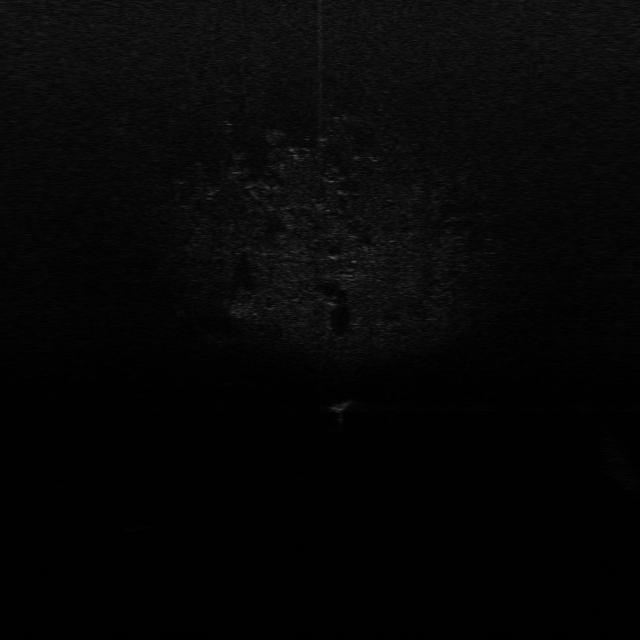square cage: (324, 395, 356, 414)
